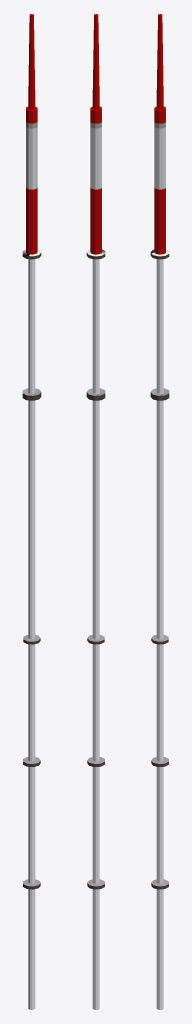
Rendered from digita_kauklahti_mast_LOD01.gltf.
3 renders of one model, left to right at view 1: azimuth 30°, elevation 25°; view 2: azimuth 210°, elevation 25°; view 3: azimuth 330°, elevation 25°, orthographic.
Visible parts, largest first — view 1: Cylinder.1794; view 2: Cylinder.1794; view 3: Cylinder.1794.
Boxes of the visible parts, x1,y1,x2,y2 form: Cylinder.1794: [22, 14, 41, 1009]; Cylinder.1794: [86, 14, 105, 1009]; Cylinder.1794: [150, 14, 169, 1009].
Bounding box in the file's own units: 5.67 × 325 × 5.59.
